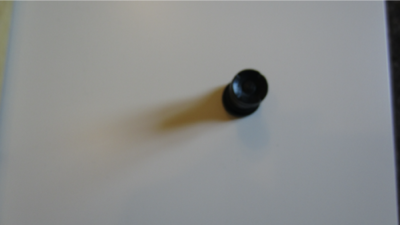black-rook: (221, 68, 269, 119)
